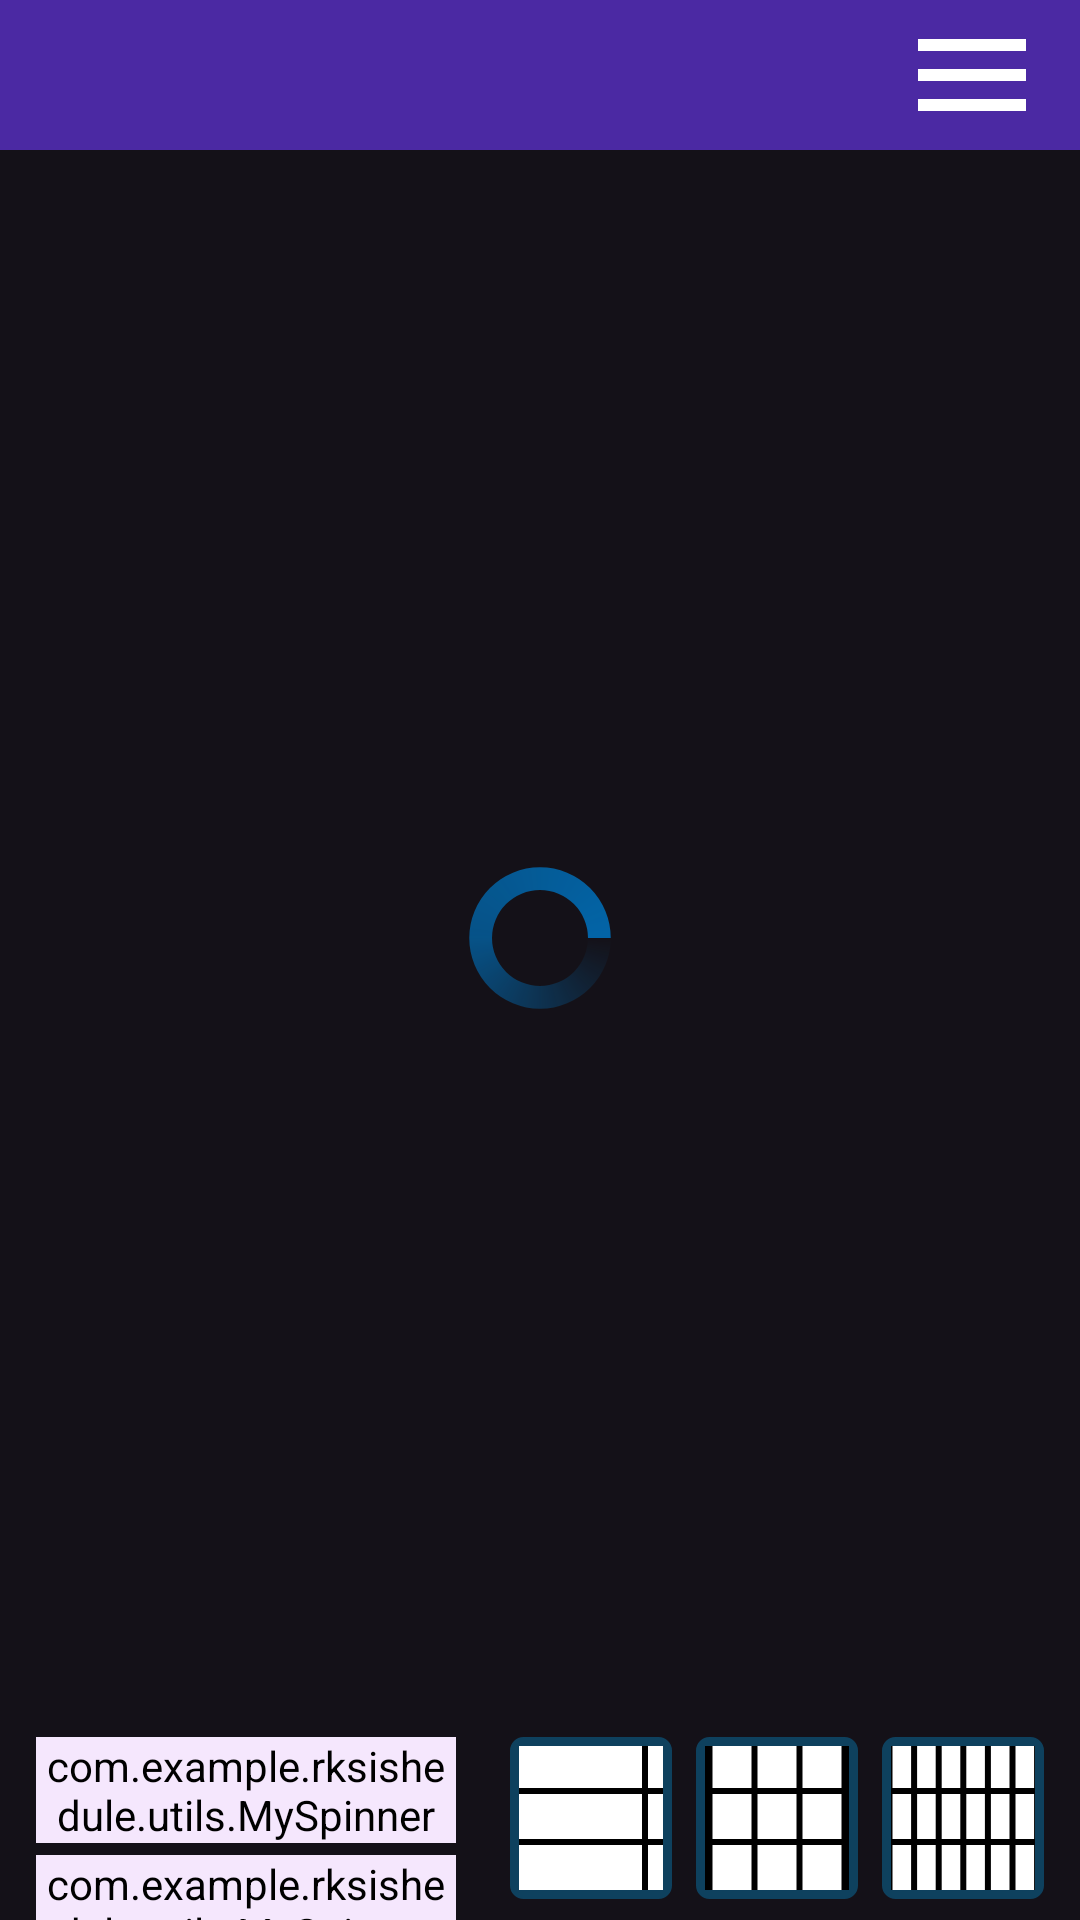

Icon click points for this 1080 × 1920 phone screenshot, format point (x, y):
menu: point (972, 75)
view one: point (591, 1818)
